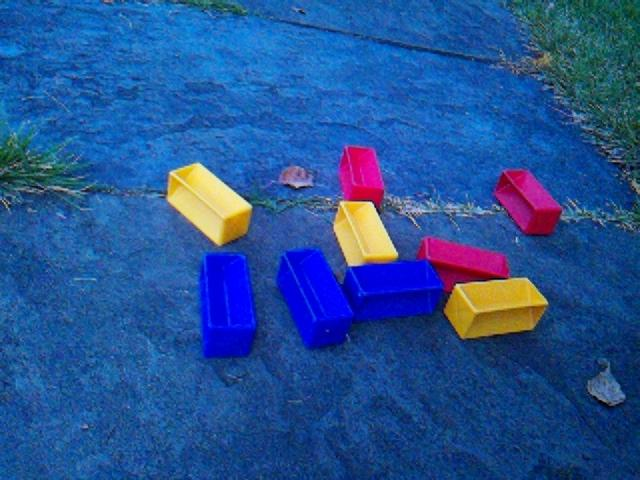blue: (276, 247, 354, 349), (198, 251, 258, 359), (344, 259, 444, 322)
red: (416, 235, 511, 293), (493, 167, 563, 236), (338, 144, 386, 209)
yellow: (165, 161, 254, 247), (443, 276, 549, 341), (333, 200, 400, 267)
